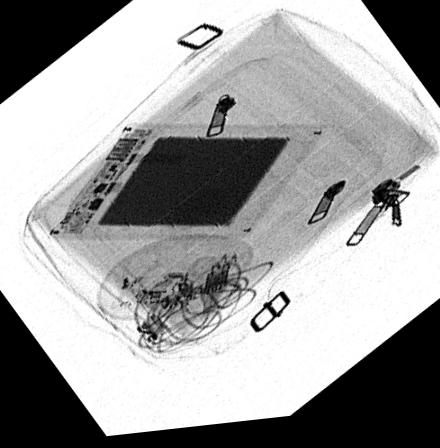Powerbank: (43, 126, 326, 242)
